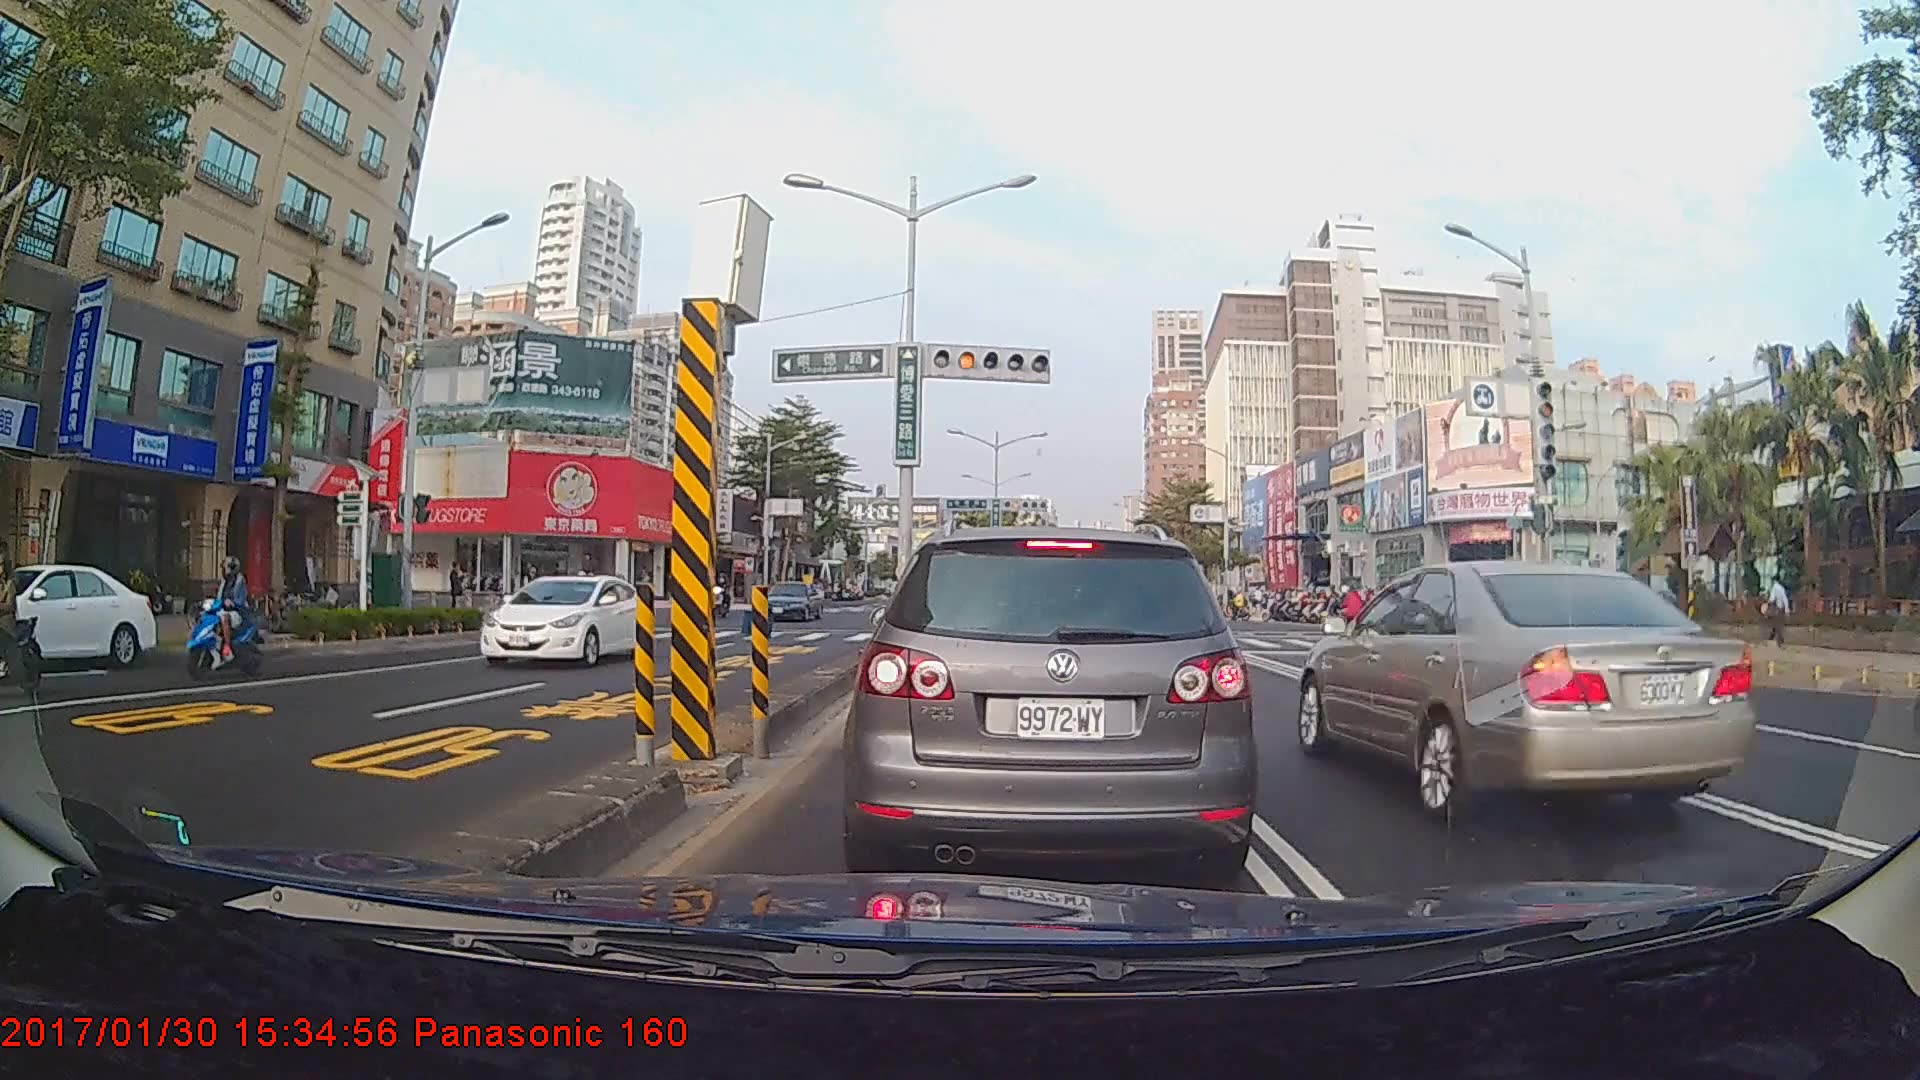pedestrian: (1764, 574, 1790, 647), (448, 558, 468, 621)
rider: (181, 550, 267, 692), (1, 561, 53, 699), (1337, 583, 1378, 659)
vehicle: (852, 521, 1252, 883), (1299, 550, 1761, 827), (0, 561, 179, 671), (476, 573, 652, 668), (756, 578, 824, 622)
